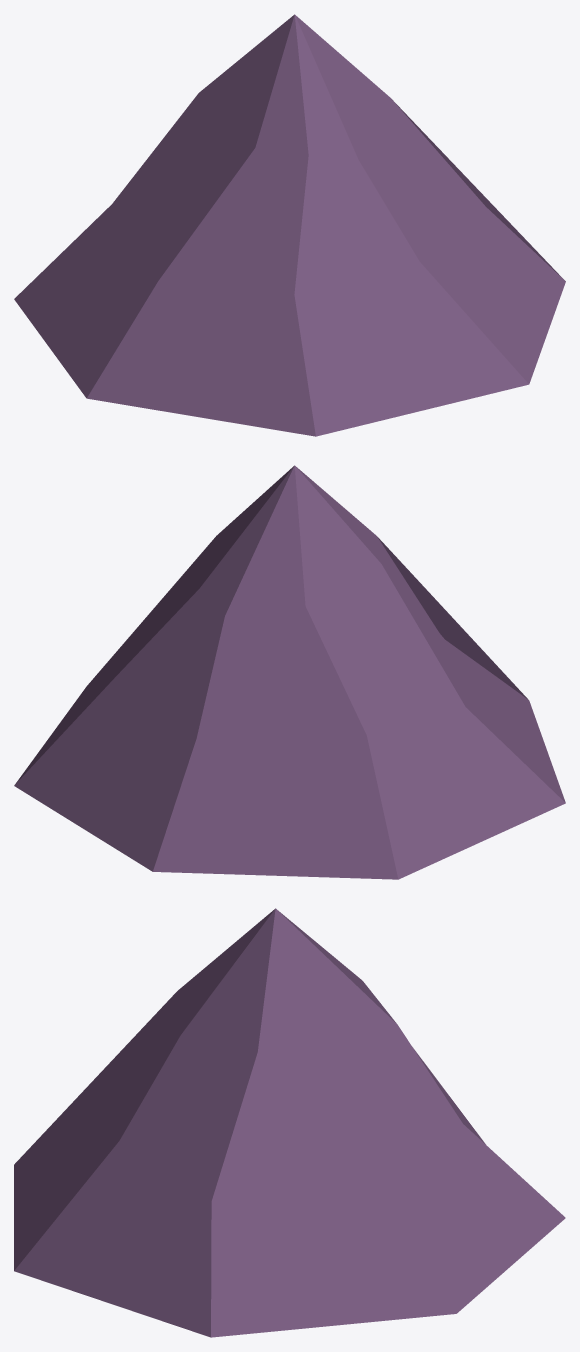
The model's file is peak_1.glb.
3 views of the same model, one above another, from view 1: azimuth 30°, elevation 25°; view 2: azimuth 150°, elevation 25°; view 3: azimuth 270°, elevation 25° (orthographic). The views are drawn at different scales.
Parts seen in each view (by area): view 1: peak_1; view 2: peak_1; view 3: peak_1.
Part boxes in pixels (<box>): peak_1: <box>14,14,565,436</box>; peak_1: <box>14,465,565,879</box>; peak_1: <box>14,908,565,1337</box>.
Size of the model in its own units: 166 by 100 by 162.
